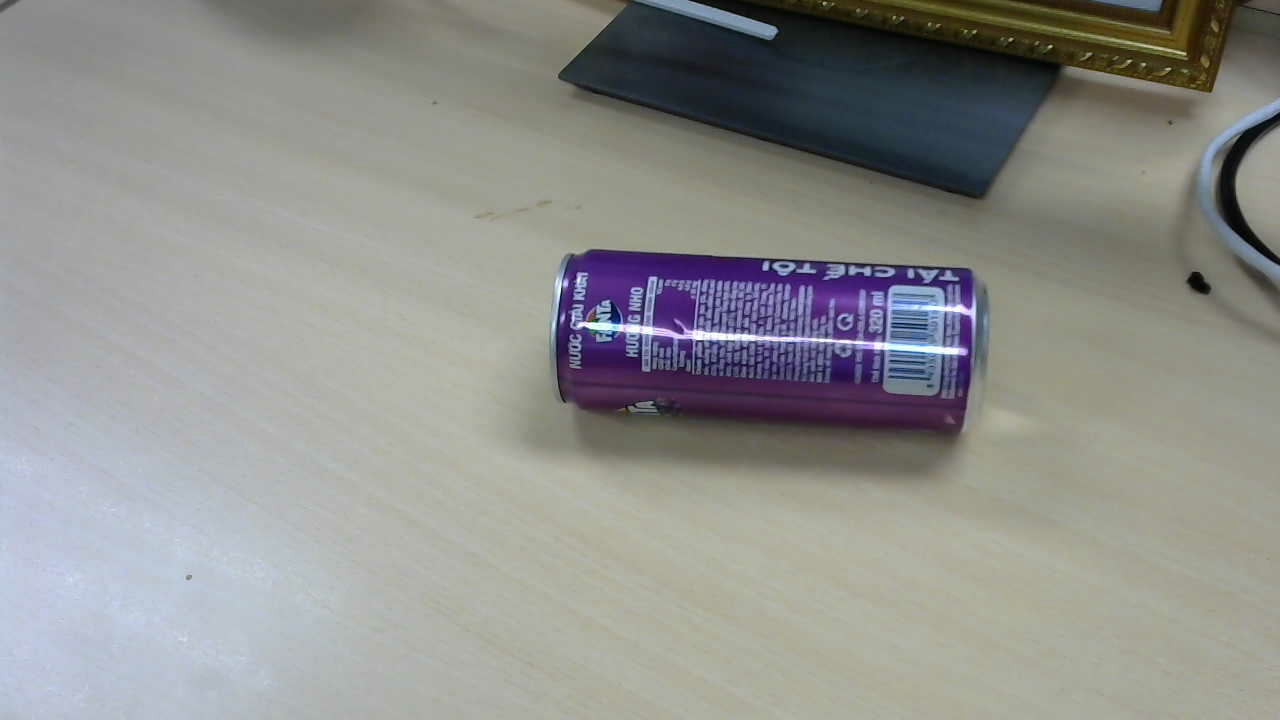Fanta: (554, 252, 990, 445)
